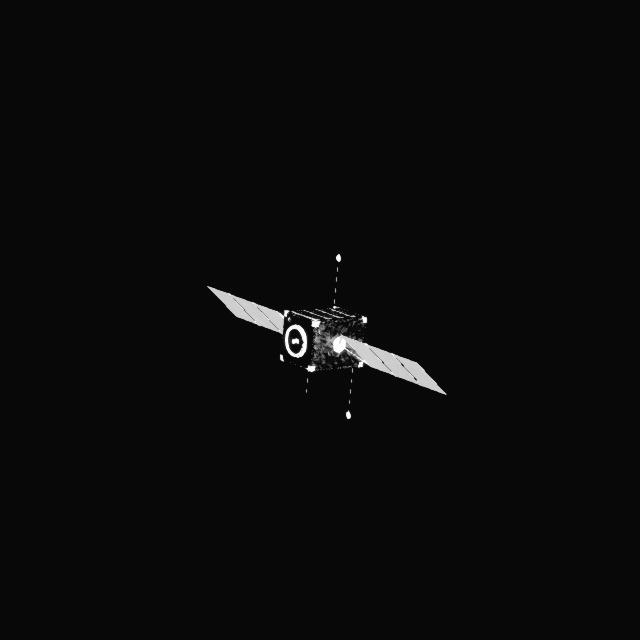medium_debris: (209, 281, 440, 395)
